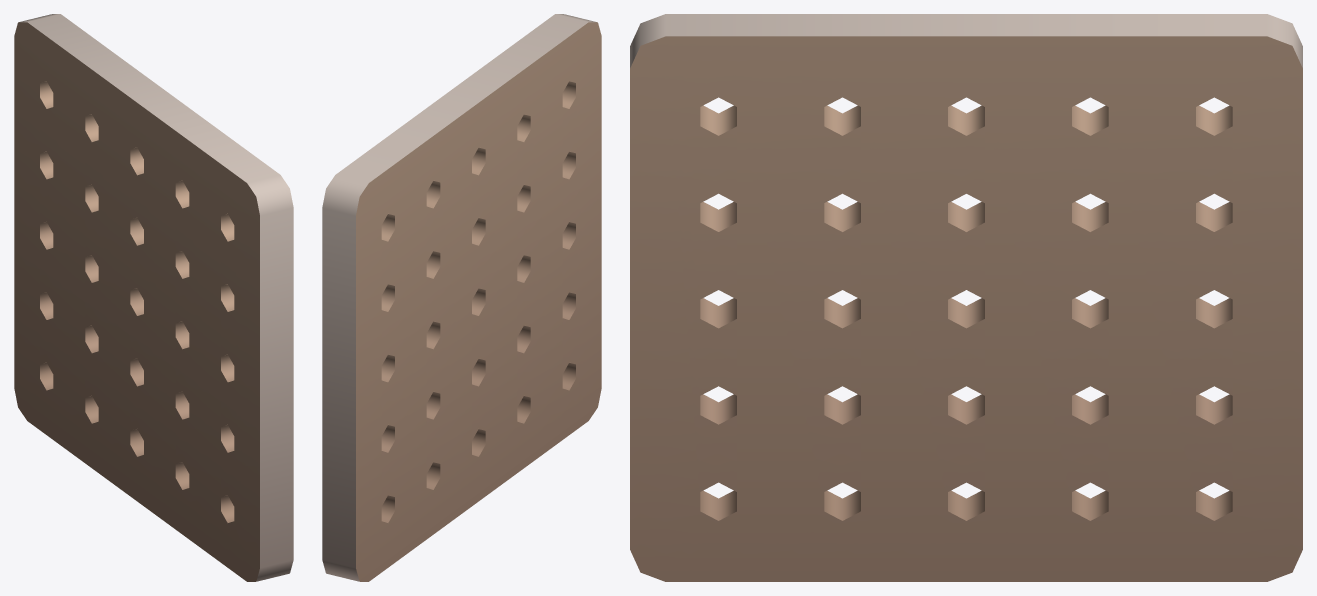
The model's file is pegboard-wide (%wall).glb.
The picture shows the model from 3 angles, left to right: view 1: azimuth 30°, elevation 25°; view 2: azimuth 150°, elevation 25°; view 3: azimuth 270°, elevation 25°; orthographic projection. The views are drawn at different scales.
Visible parts, largest first — view 1: pegboard-wide (%wall); view 2: pegboard-wide (%wall); view 3: pegboard-wide (%wall).
Boxes of the visible parts, x1,y1,x2,y2 form: pegboard-wide (%wall): [14, 14, 293, 581]; pegboard-wide (%wall): [322, 14, 601, 581]; pegboard-wide (%wall): [630, 14, 1302, 581].
Bounding box in the file's own units: 0.075 × 0.85 × 0.95.
